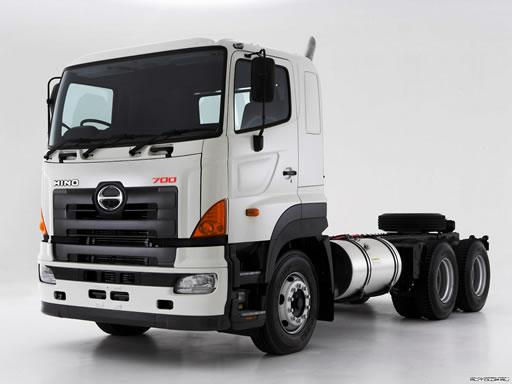truck: (33, 36, 496, 357)
